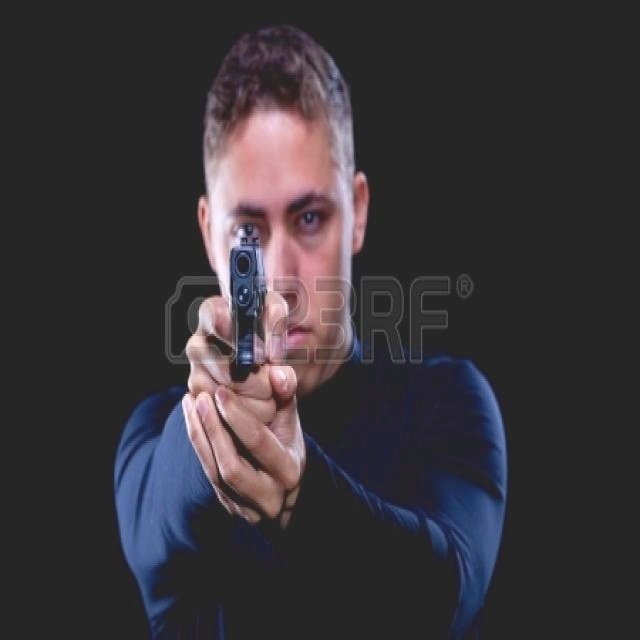gun: (218, 223, 282, 430)
